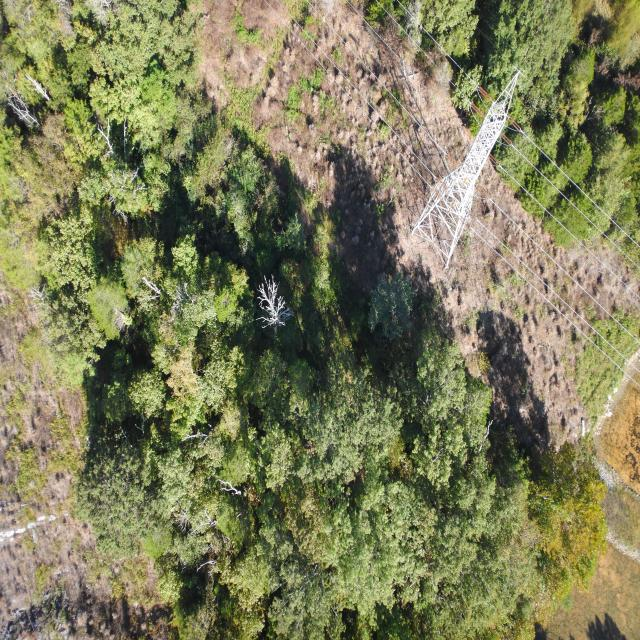Area of Interest: (9, 0, 600, 640), (412, 0, 635, 240)
